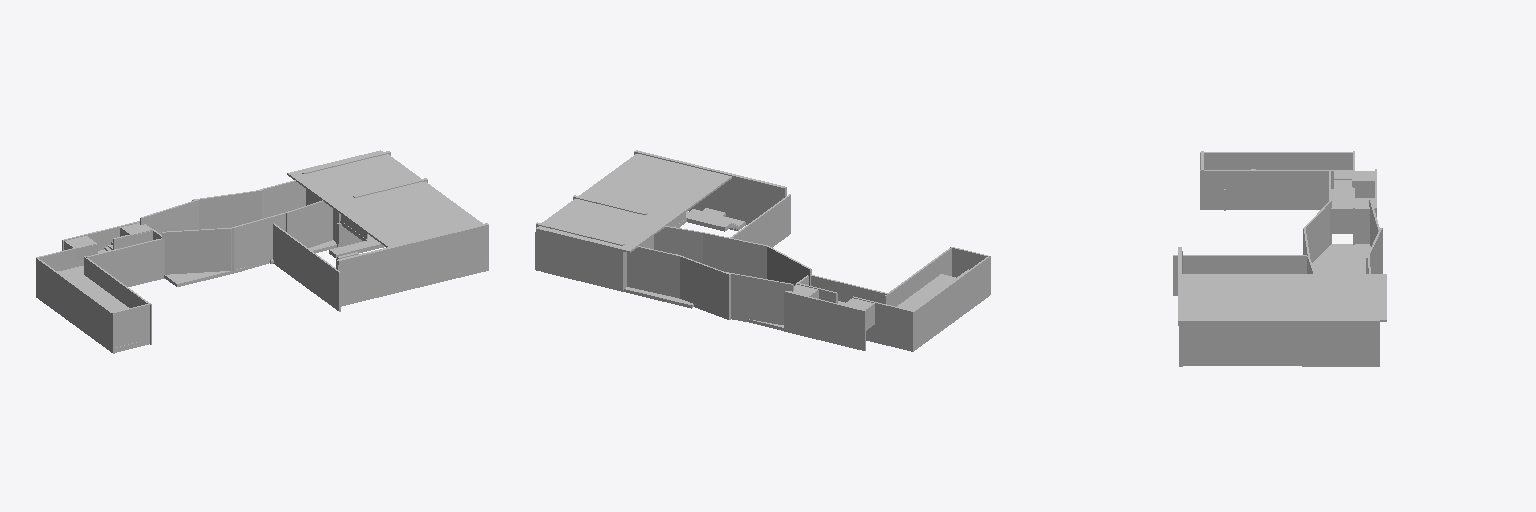
The picture shows the model from 3 angles: view 1: azimuth 30°, elevation 25°; view 2: azimuth 150°, elevation 25°; view 3: azimuth 270°, elevation 25°; orthographic projection.
Parts seen in each view (by area): view 1: Cube.024, CUBE.007_MV1.026, Cube.011_Cube.008, Cube.021, Cube.025, Cube.015, Cube.019, Cube.022, Cube.023, Cube.005_Cube.013, Cube.018, Cube.020 (+5 smaller); view 2: Cube.024, CUBE.020_MV1.021, Cube.016, Cube.011_Cube.008, CUBE.007_MV1.026, Cube.018, Cube.019, Cube.020, Cube.022, Cube.013_Cube.011, Cube.025, Cube.009_Cube.006 (+5 smaller); view 3: Cube.024, cub.002_door1.003, Cube.009_Cube.006, Cube.011_Cube.008, Cube.025, CUBE.010_MV1.011, Cube.021, CUBE.008_MV1.009, Cube.017, CUBE.009_MV1.010.
Part boxes in pixels (bbox=[...]): Cube.024: bbox=[287, 150, 480, 247]; CUBE.007_MV1.026: bbox=[336, 223, 488, 306]; Cube.011_Cube.008: bbox=[37, 258, 114, 353]; Cube.021: bbox=[162, 228, 233, 274]; Cube.025: bbox=[273, 223, 340, 311]; Cube.015: bbox=[86, 238, 164, 286]; Cube.019: bbox=[192, 190, 261, 229]; Cube.022: bbox=[230, 211, 290, 270]; Cube.023: bbox=[286, 200, 332, 247]; Cube.005_Cube.013: bbox=[112, 303, 151, 352]; Cube.018: bbox=[140, 199, 198, 234]; Cube.020: bbox=[256, 180, 305, 218]; Cube.024: bbox=[536, 154, 731, 252]; CUBE.020_MV1.021: bbox=[535, 222, 624, 290]; Cube.016: bbox=[784, 291, 865, 350]; Cube.011_Cube.008: bbox=[914, 256, 990, 350]; CUBE.007_MV1.026: bbox=[634, 150, 786, 224]; Cube.018: bbox=[726, 272, 793, 324]; Cube.019: bbox=[676, 254, 730, 319]; Cube.020: bbox=[627, 246, 680, 298]; Cube.022: bbox=[703, 232, 768, 278]; Cube.013_Cube.011: bbox=[852, 296, 913, 351]; Cube.025: bbox=[730, 194, 790, 247]; Cube.009_Cube.006: bbox=[884, 248, 951, 306]; Cube.024: bbox=[1182, 274, 1386, 321]; cub.002_door1.003: bbox=[1182, 320, 1375, 365]; Cube.009_Cube.006: bbox=[1200, 170, 1333, 209]; Cube.011_Cube.008: bbox=[1200, 152, 1352, 169]; Cube.025: bbox=[1173, 255, 1306, 295]; CUBE.010_MV1.011: bbox=[1312, 244, 1370, 273]; Cube.021: bbox=[1303, 201, 1331, 262]; CUBE.008_MV1.009: bbox=[1352, 198, 1374, 243]; Cube.017: bbox=[1330, 208, 1354, 233]; CUBE.009_MV1.010: bbox=[1352, 171, 1374, 197].
Bounding box in the file's own units: 222 × 28.03 × 113.